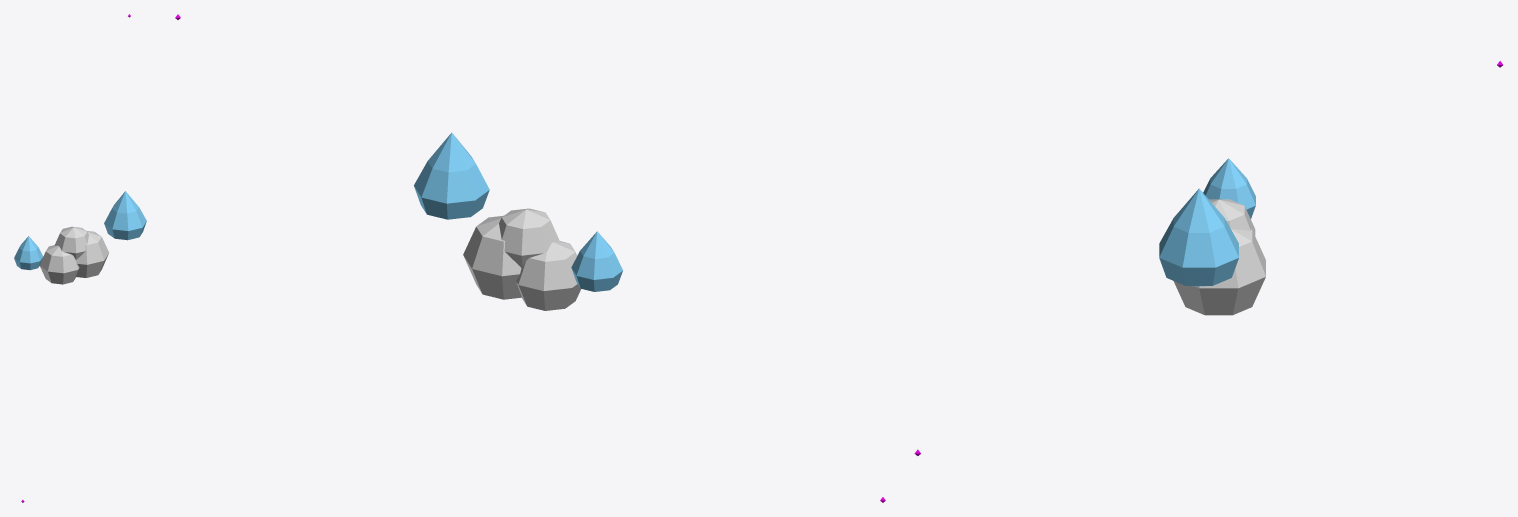
Rendered from acc_raindrop.fbx.
3 views of the same model, side by side, from view 1: azimuth 30°, elevation 25°; view 2: azimuth 150°, elevation 25°; view 3: azimuth 270°, elevation 25° (orthographic). The views are drawn at different scales.
Visible parts, largest first — view 1: Tuft, Drop; view 2: Tuft, Drop; view 3: Drop, Tuft.
Part boxes in pixels (<box>): Tuft: <box>40,226,109,284</box>; Drop: <box>14,191,146,270</box>; Tuft: <box>463,208,580,310</box>; Drop: <box>414,132,622,291</box>; Drop: <box>1159,158,1255,286</box>; Tuft: <box>1173,199,1265,315</box>.
Bounding box in the file's own units: 2.99 × 3.6 × 2.99.
